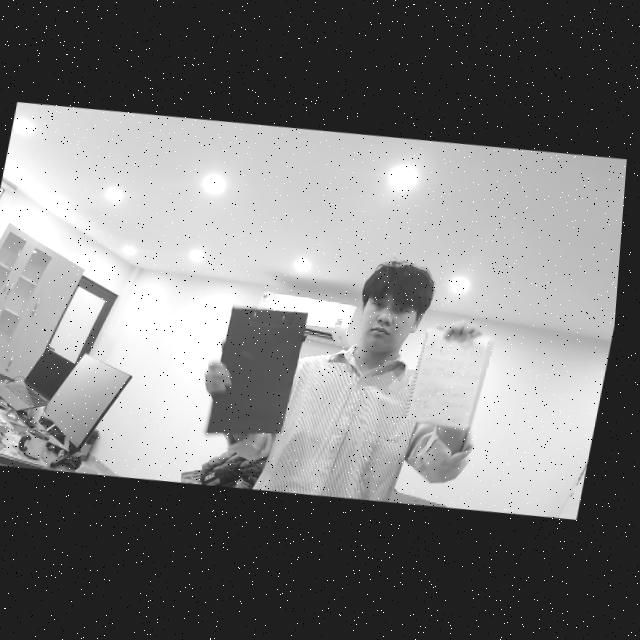document: (405, 328, 496, 427)
face: (352, 281, 418, 360)
